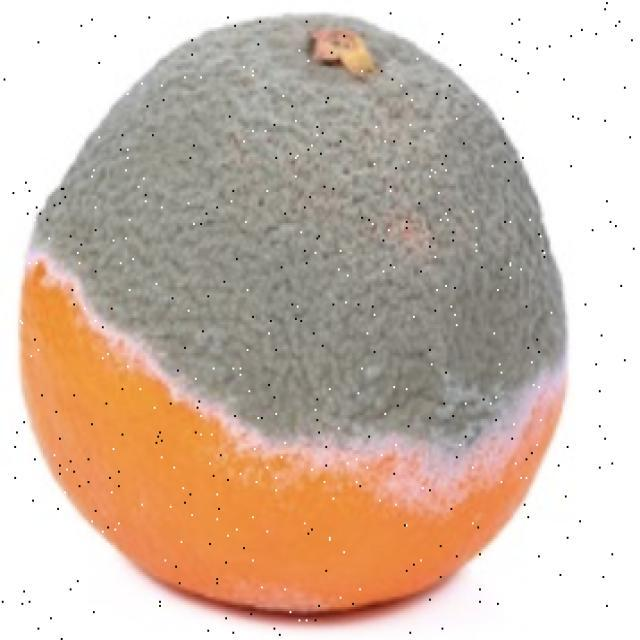sangat-busuk: (21, 14, 565, 609)
